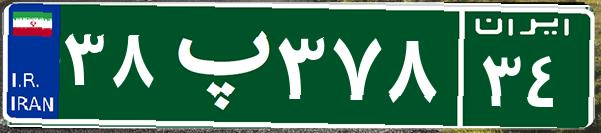3: (273, 28, 330, 110), (57, 26, 110, 107), (475, 38, 525, 113)
4: (525, 38, 570, 115)
7: (330, 28, 385, 110)
8: (385, 28, 445, 110), (110, 28, 158, 105)
پ: (158, 15, 273, 115)
